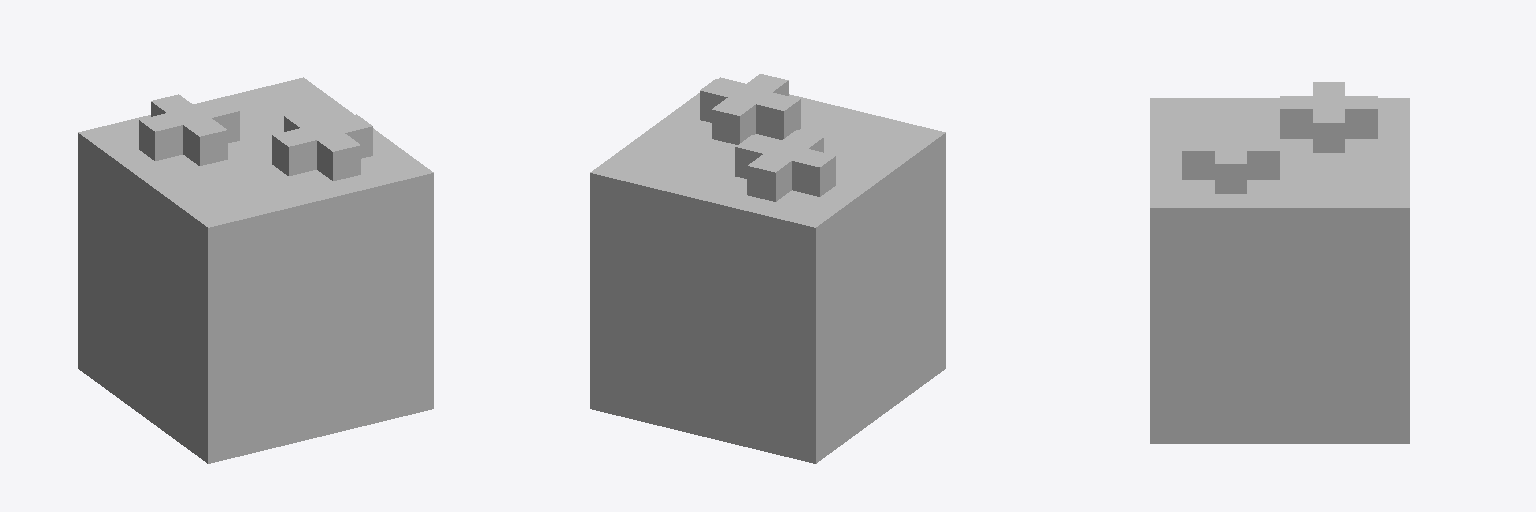
File: Grass1.obj
3 renders of one model, left to right at view 1: azimuth 30°, elevation 25°; view 2: azimuth 150°, elevation 25°; view 3: azimuth 270°, elevation 25°, orthographic.
Parts seen in each view (by area): view 1: object 1; view 2: object 1; view 3: object 1.
Part boxes in pixels (x1,y1,x2,y2): object 1: (78, 77, 433, 463); object 1: (590, 74, 945, 463); object 1: (1150, 82, 1409, 443).
Size of the model in its own units: 0.8 by 0.9 by 0.8.